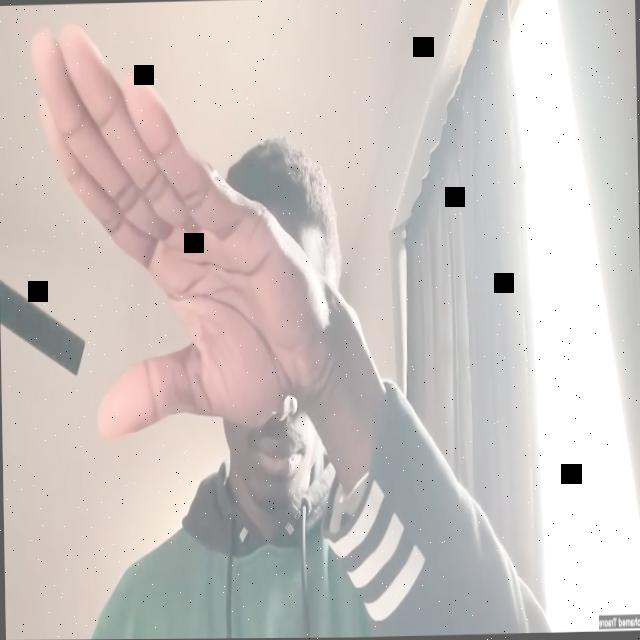Paper: (30, 18, 328, 439)
